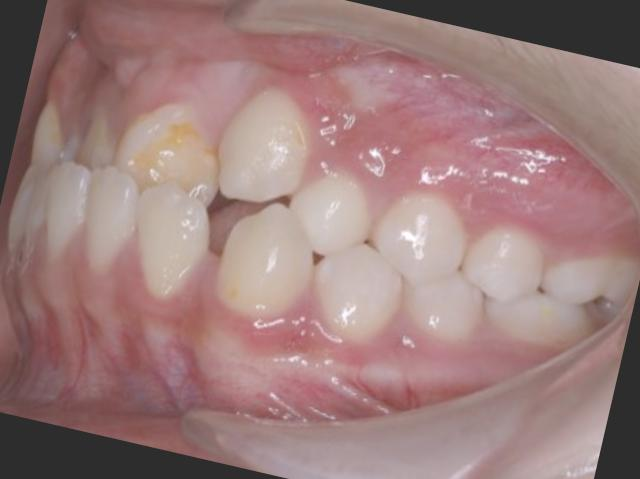canine class II full class: (176, 65, 443, 361)
molar class III 1/2: (477, 220, 640, 372)
